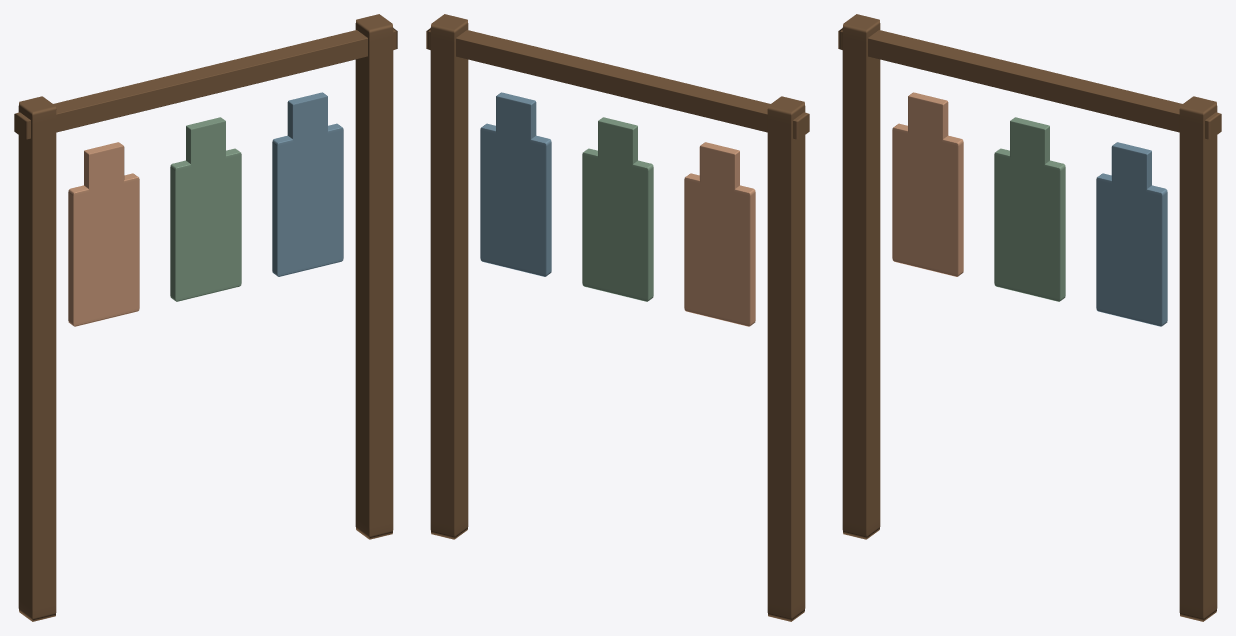
The model's file is apronstand-3.glb.
3 renders of one model, left to right at view 1: azimuth 30°, elevation 25°; view 2: azimuth 150°, elevation 25°; view 3: azimuth 330°, elevation 25°, orthographic.
Parts seen in each view (by area): view 1: apronstand-3-0; view 2: apronstand-3-0; view 3: apronstand-3-0.
Boxes of the visible parts, x1,y1,x2,y2 form: apronstand-3-0: (14, 14, 397, 621); apronstand-3-0: (426, 14, 809, 621); apronstand-3-0: (838, 14, 1221, 621).
Bounding box in the file's own units: 0.84 × 1.1 × 0.055.
